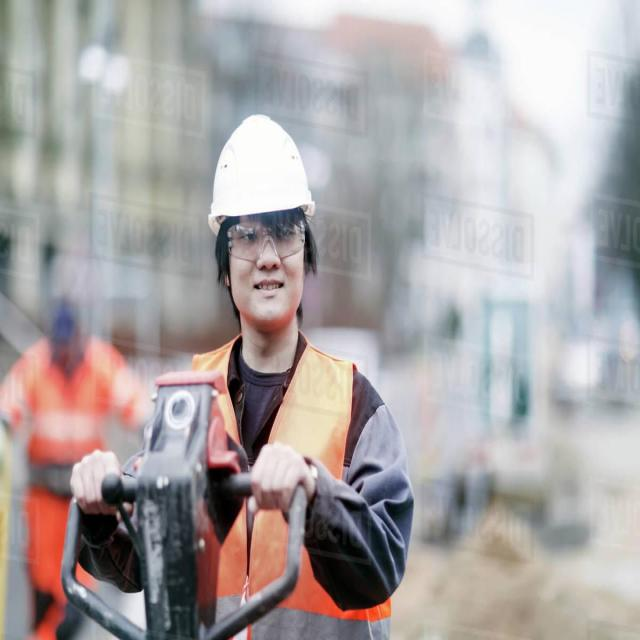Reflective-Jacket: (181, 338, 388, 638)
Safety-Helmet: (202, 108, 316, 233)
